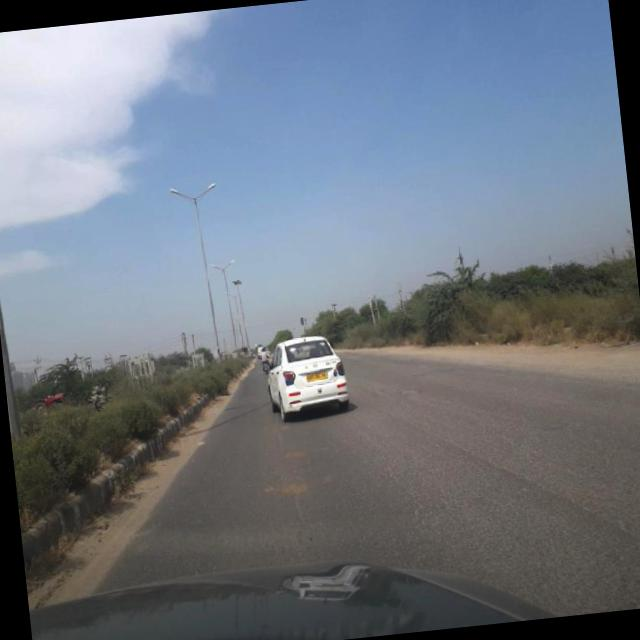pothole: (445, 412, 640, 570)
